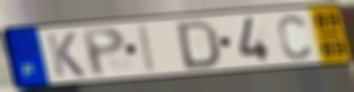4: (237, 15, 273, 64)
C: (276, 13, 312, 61)
D: (176, 19, 222, 71)
I: (138, 23, 159, 74)
K: (44, 31, 87, 78)
P: (79, 25, 129, 78)
